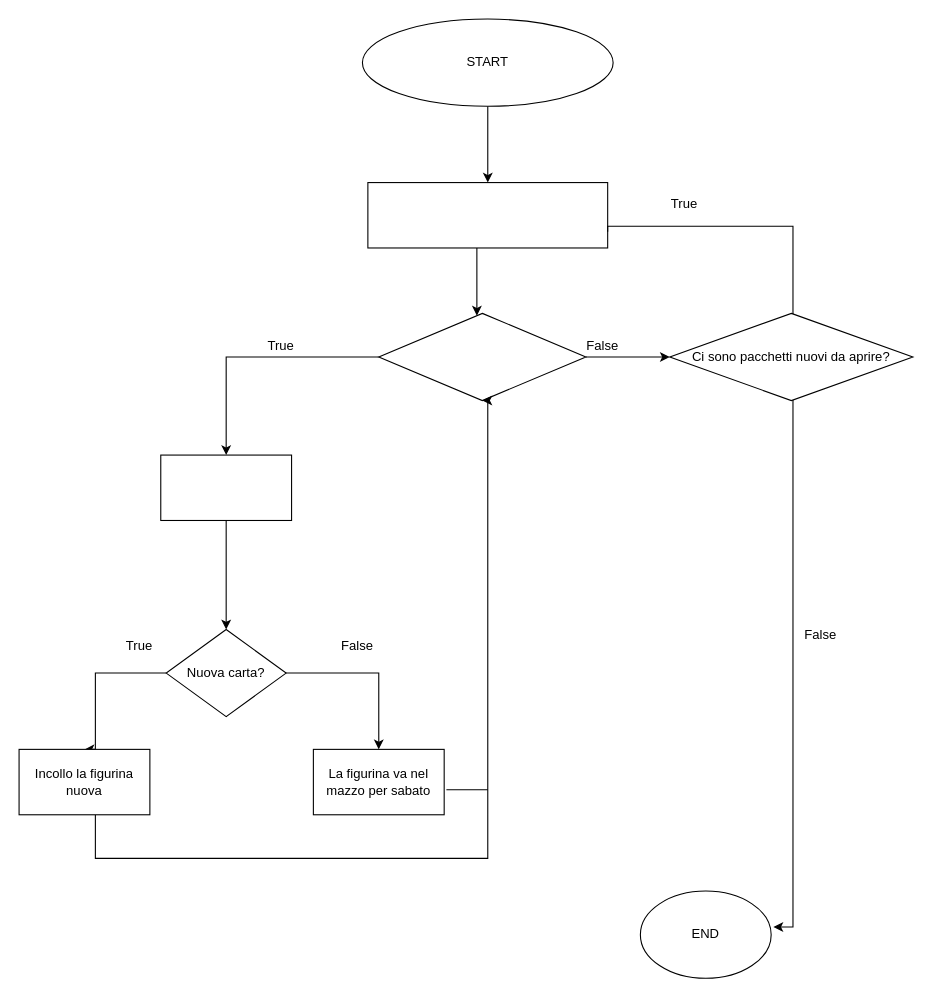
Some shapes in this 932 by 997 pixel diagram are drawn without their labels. Here are the shapes that lost their labels. From the top down, the centre of each, then its label:
At pixel 487 214: "Apro il pacchetto".
At pixel 482 356: "Ci sono carte nel pacchetto?".
At pixel 226 487: "Tiro fuori una carta".
